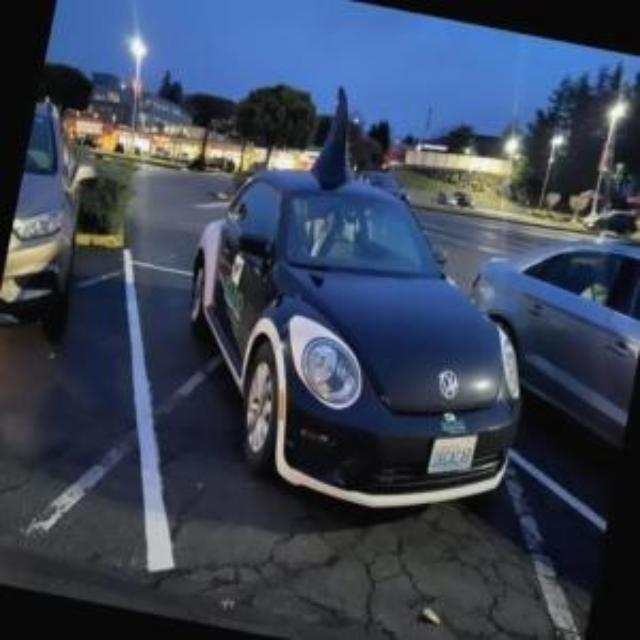License Plate: (427, 433, 478, 473)
